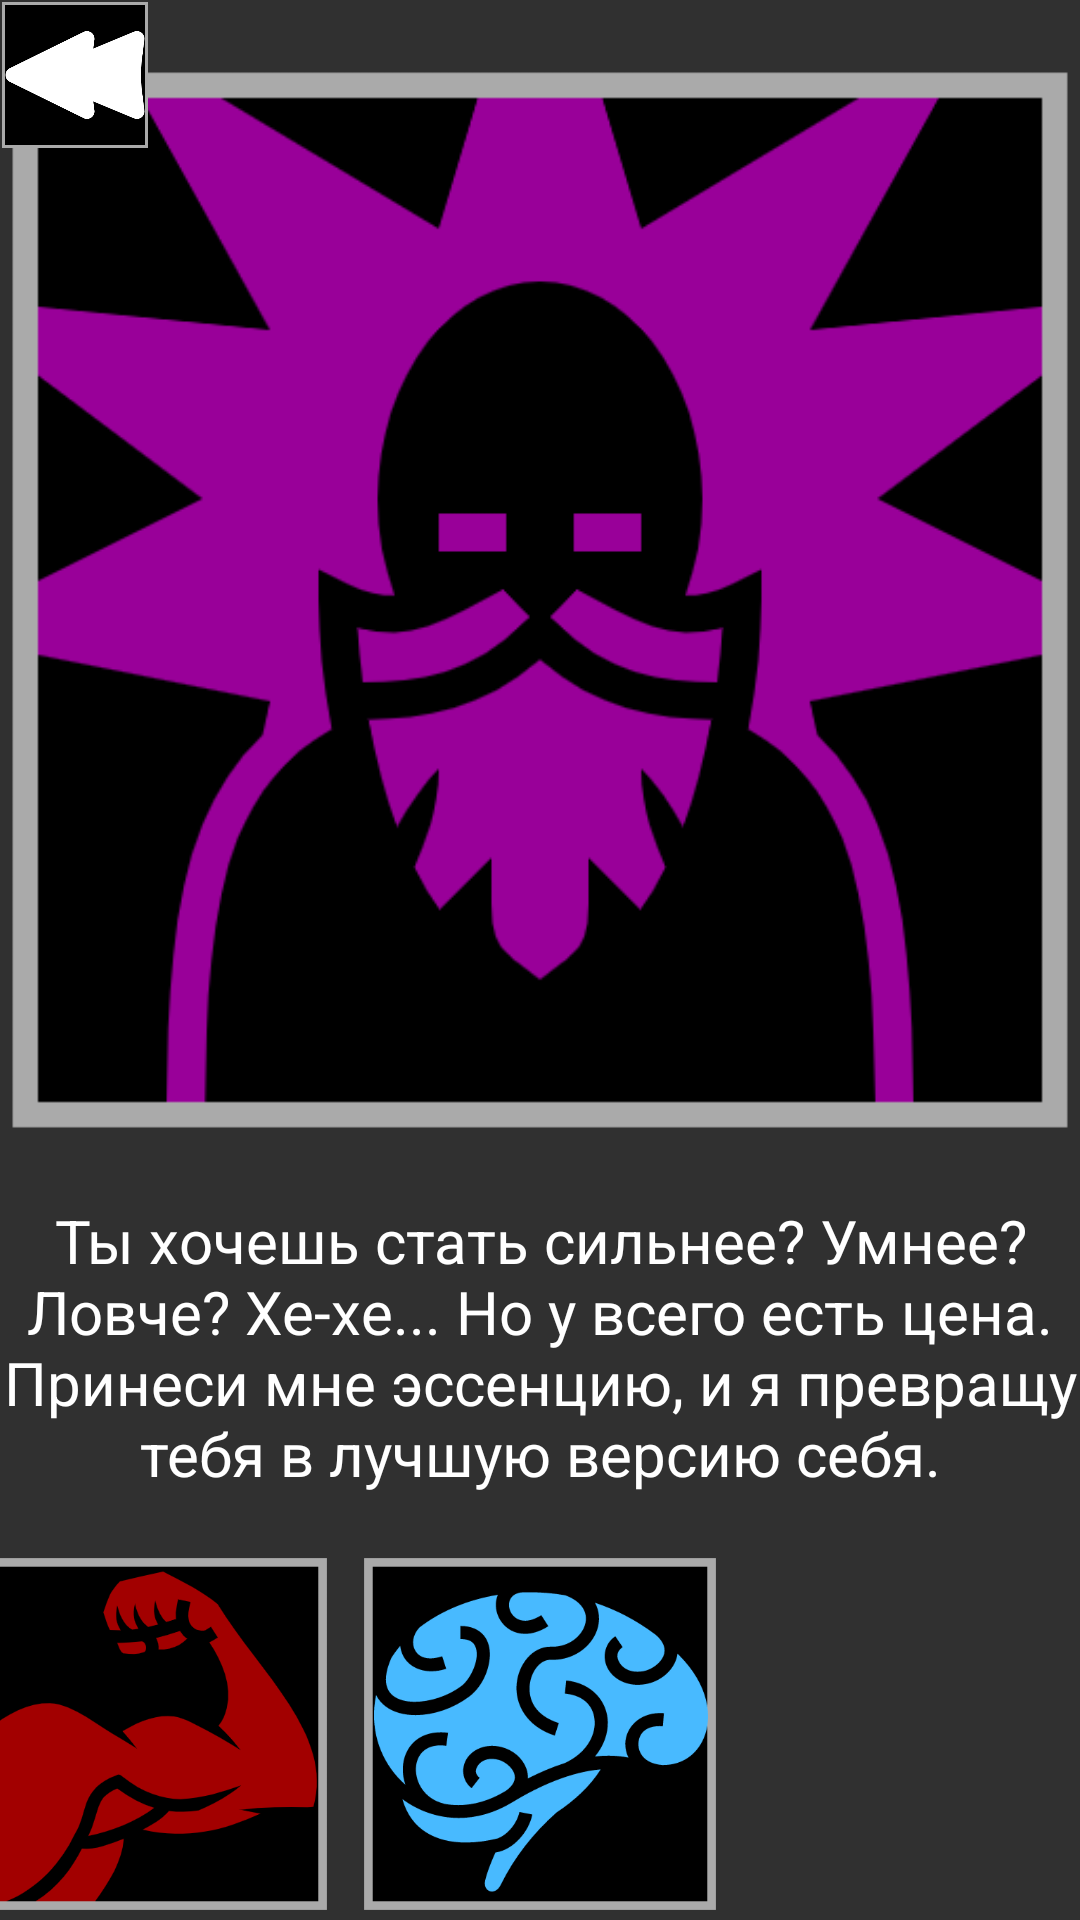

Screen size 1080×1920. Icon name, then its center in pixels as (x,y):
back: (75,75)
biceps: (163,1734)
brain: (540,1734)
